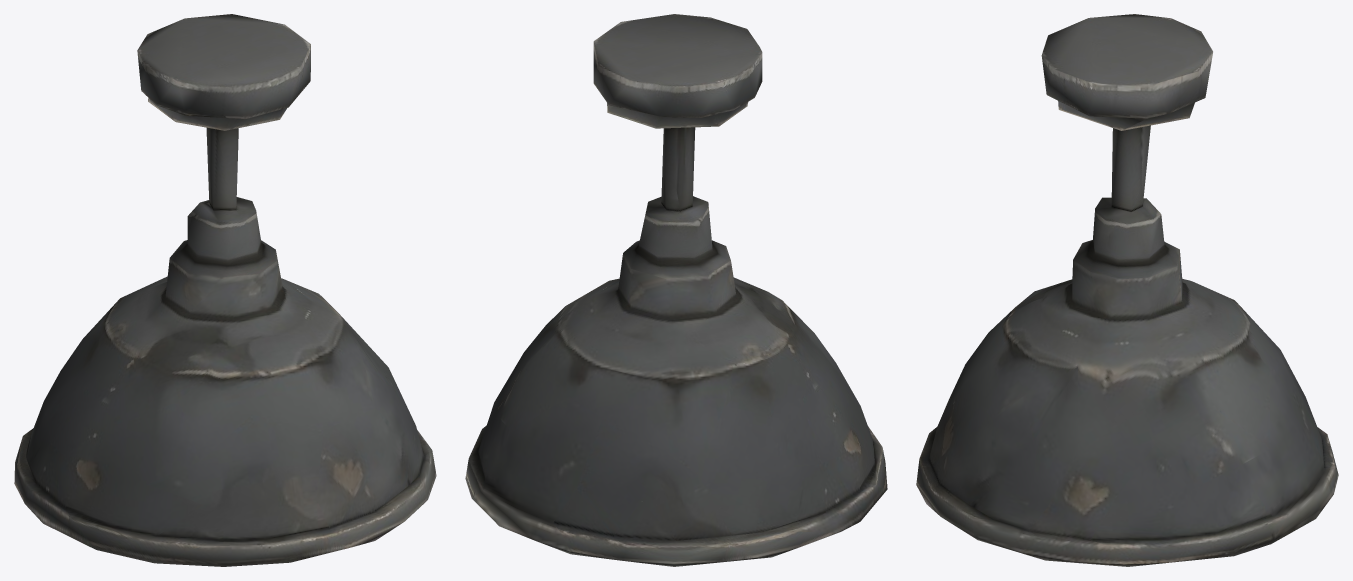
The model's file is tripo_convert_2df3028c-b794-4630-99f0-5db22429d8c8.fbx.
The picture shows the model from 3 angles, left to right: view 1: azimuth 30°, elevation 25°; view 2: azimuth 150°, elevation 25°; view 3: azimuth 270°, elevation 25°; orthographic projection.
Parts seen in each view (by area): view 1: tripo_node_2df3028c; view 2: tripo_node_2df3028c; view 3: tripo_node_2df3028c.
Boxes of the visible parts, box(x1,y1,x2,y2) form: tripo_node_2df3028c: box(14, 14, 436, 566); tripo_node_2df3028c: box(465, 14, 887, 566); tripo_node_2df3028c: box(916, 14, 1338, 566).
Size of the model in its own units: 0.8876 by 0.9999 by 0.89.
1 material, 1 textured.
